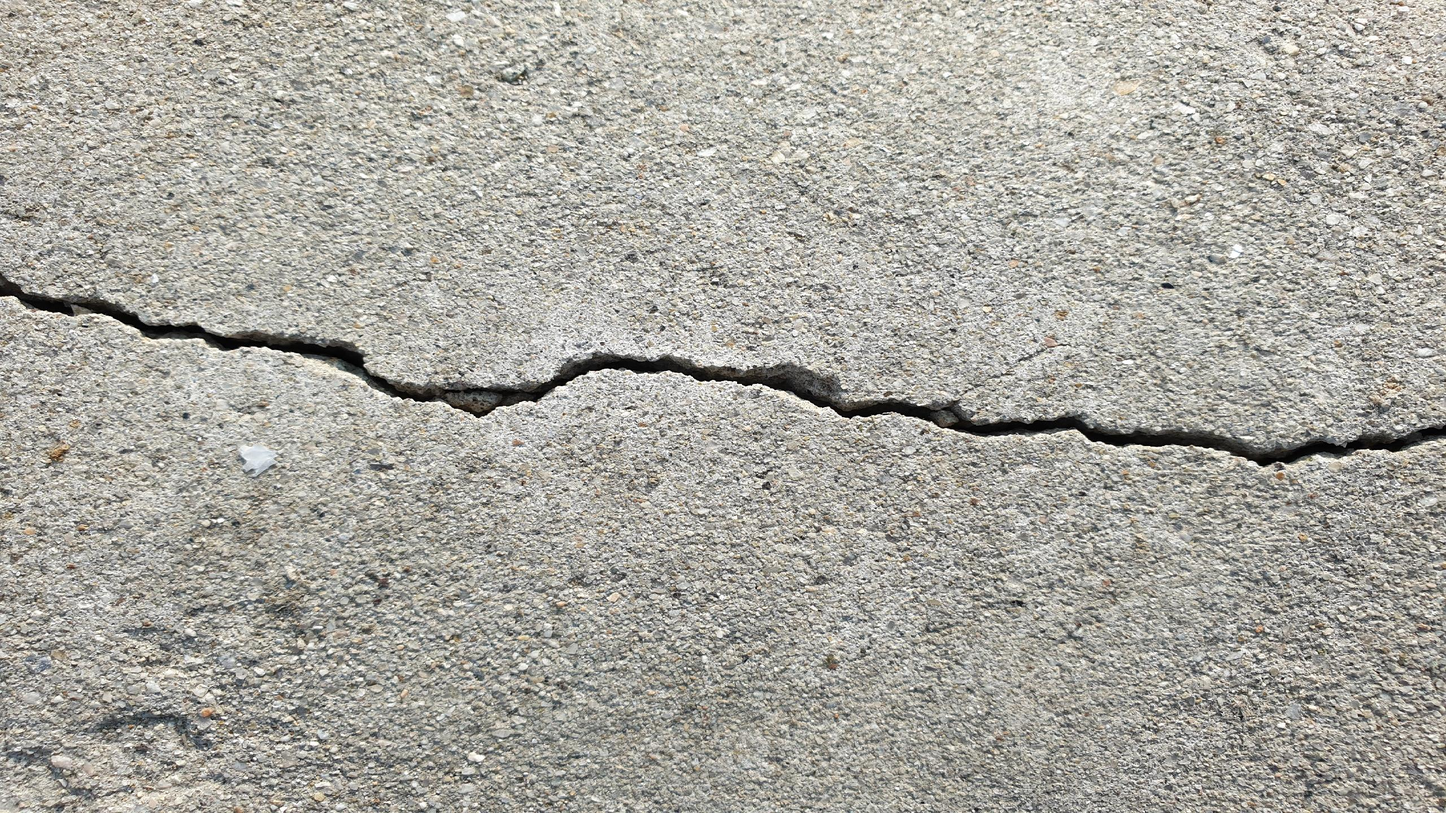crack: (0, 277, 1445, 474)
